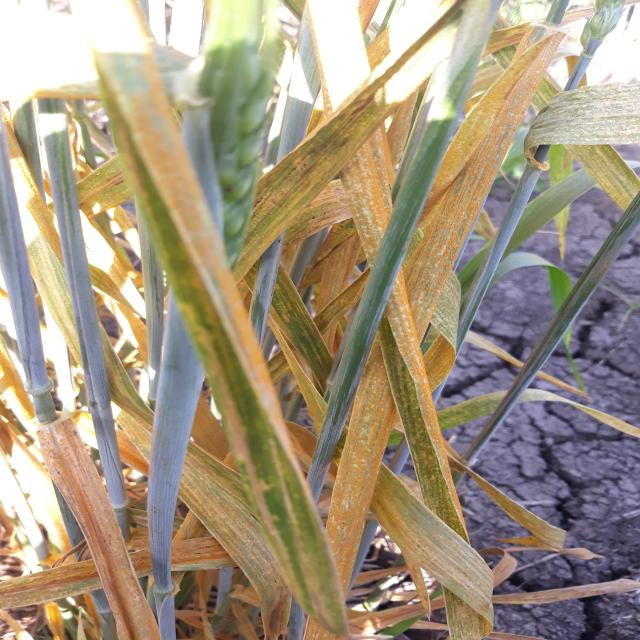yellow_rust: (178, 265, 570, 640), (271, 0, 640, 262), (0, 305, 172, 640), (0, 17, 194, 300), (244, 178, 291, 278)
